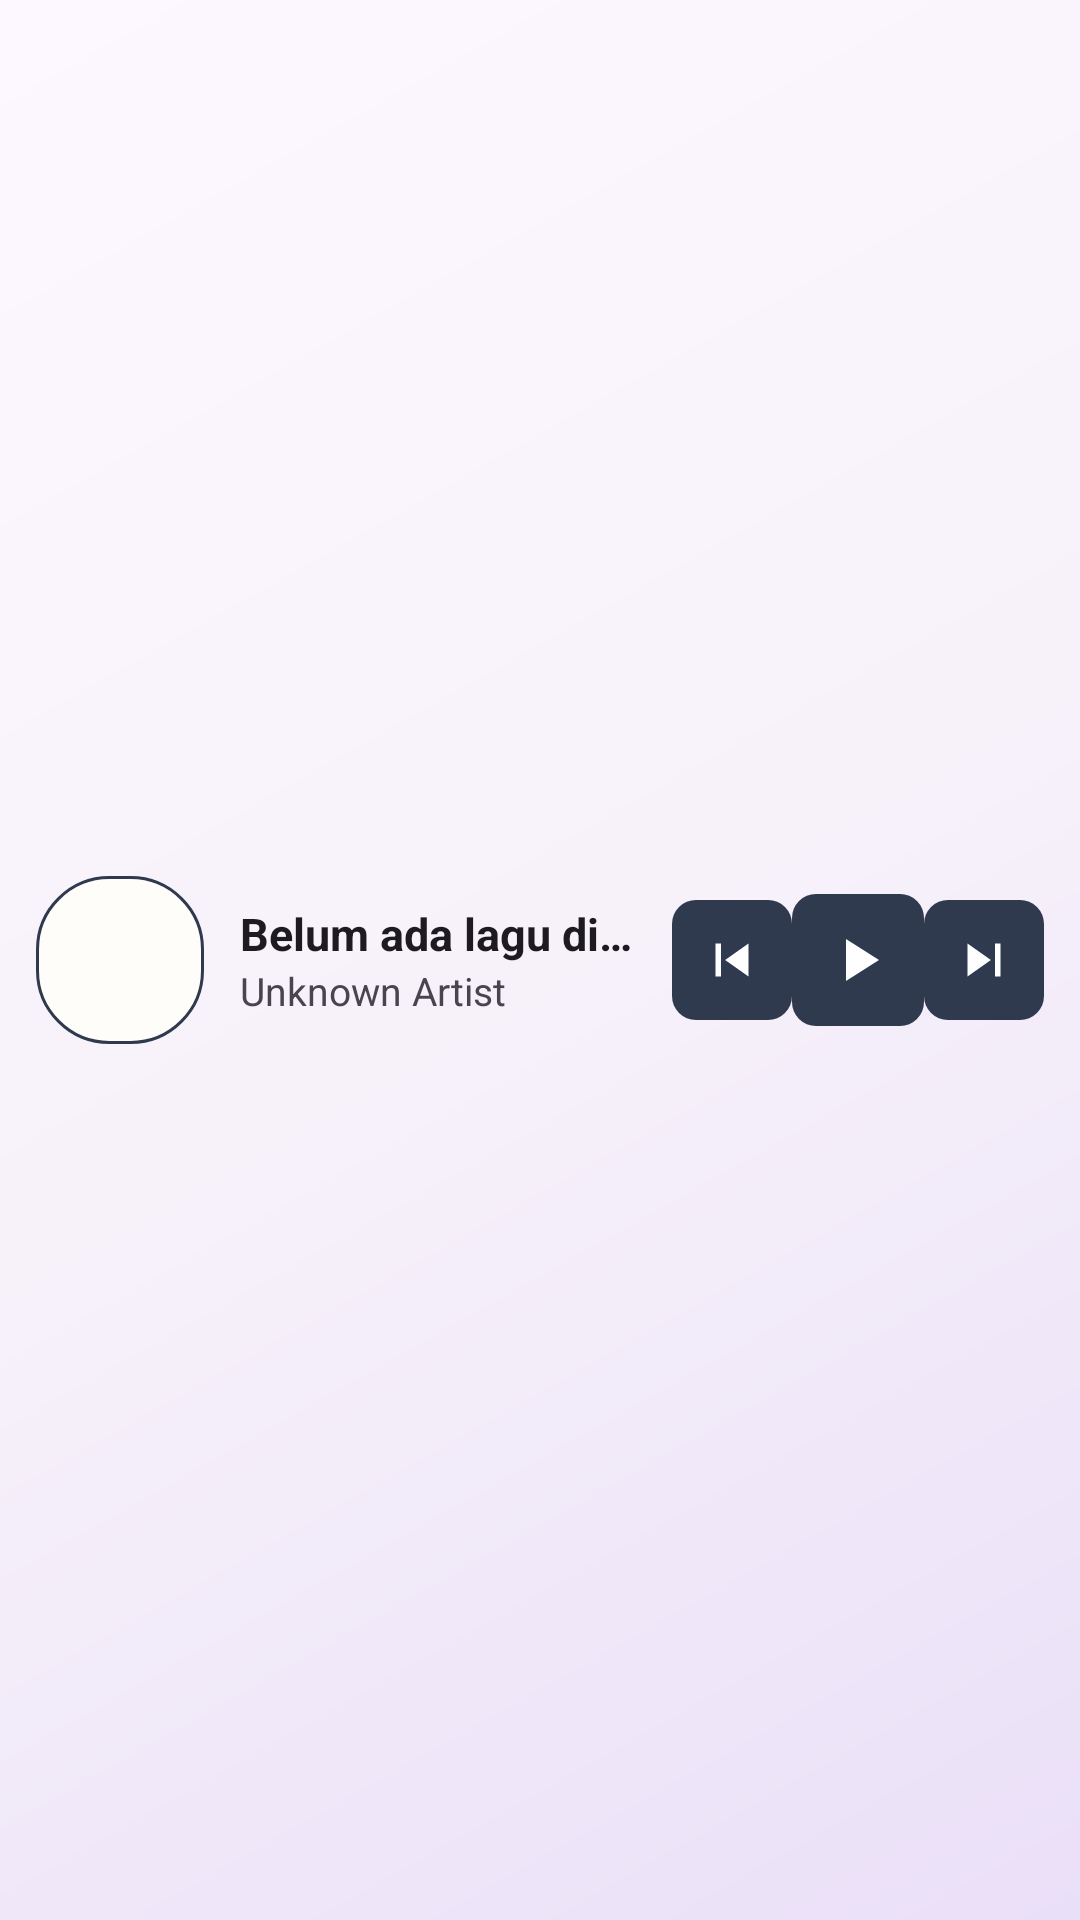

Named icons in this screenshot (1080x1920) and their bounding boxes, bbox=(x1, y1, x2, y2):
Next: bbox=(924, 900, 1044, 1020)
Play: bbox=(792, 894, 924, 1026)
Prev: bbox=(672, 900, 792, 1020)
